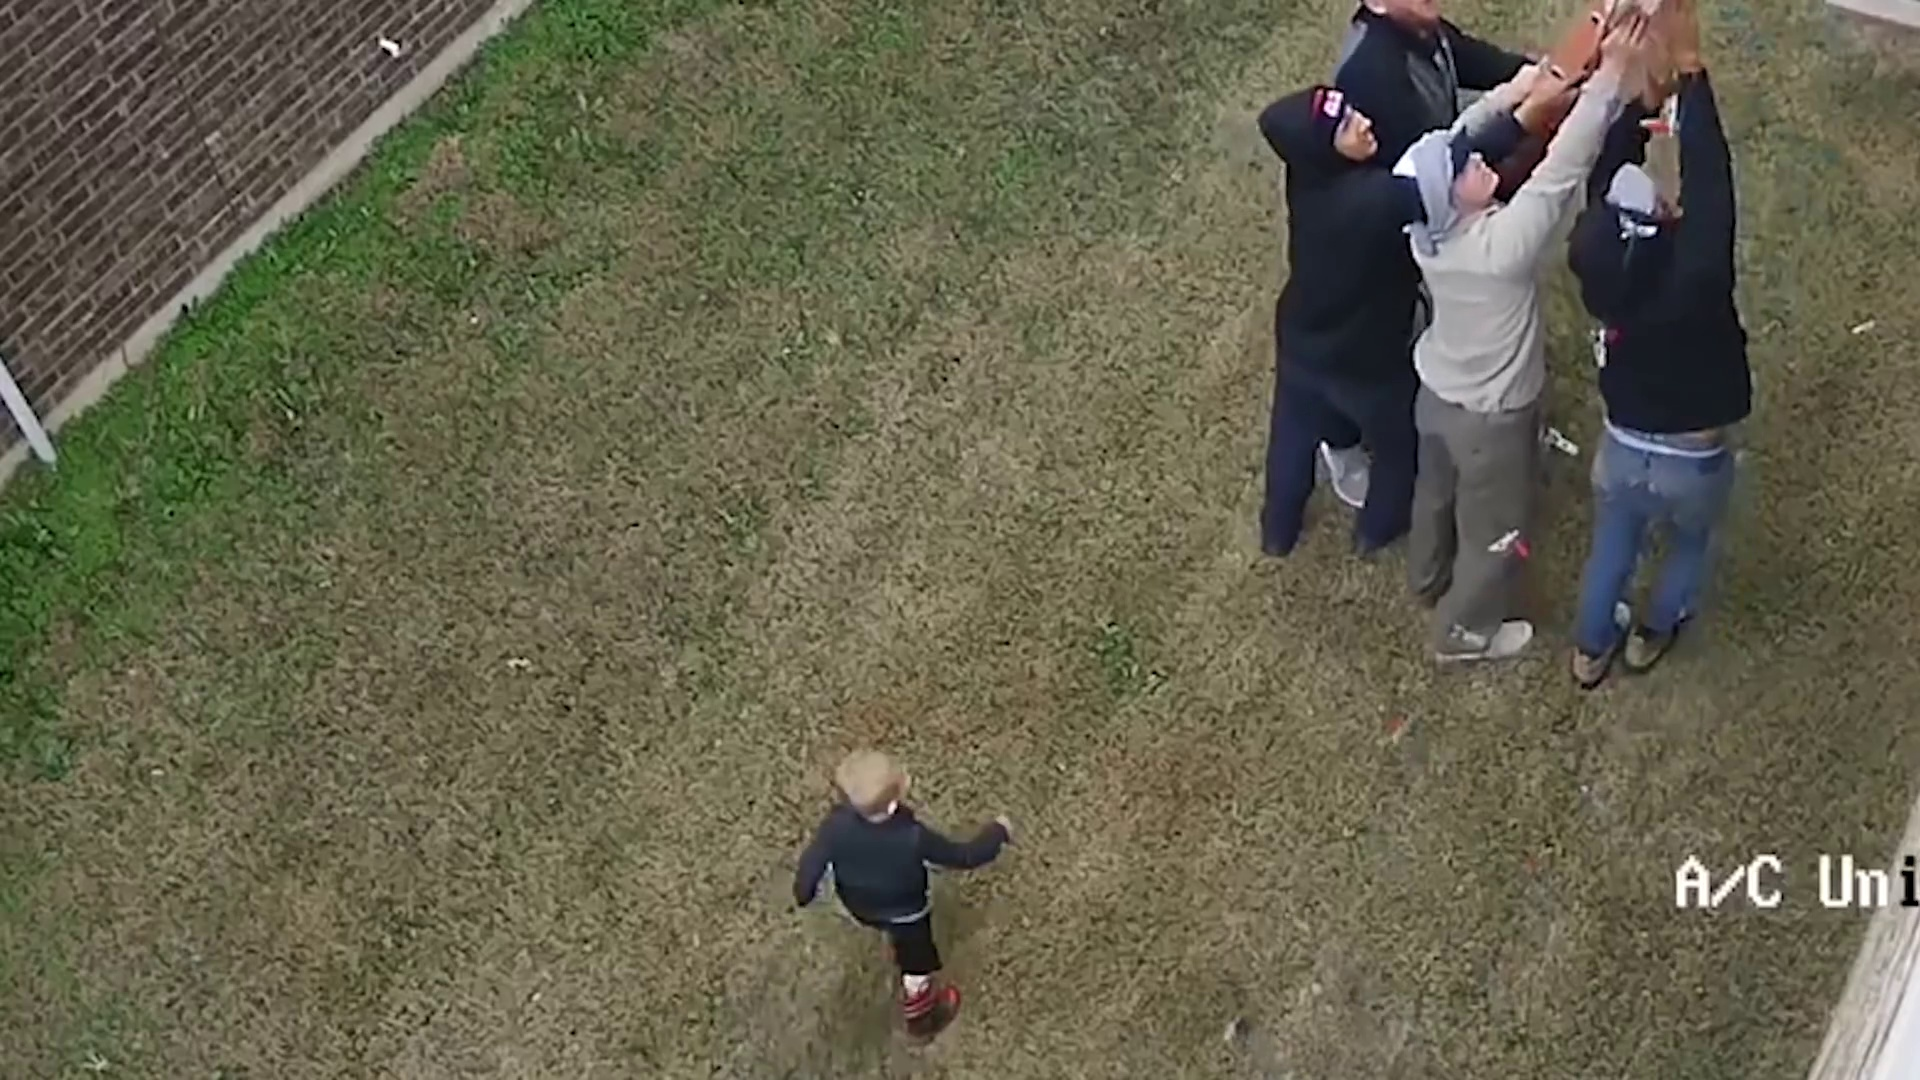face: (1321, 105, 1379, 168), (1447, 148, 1504, 205)
